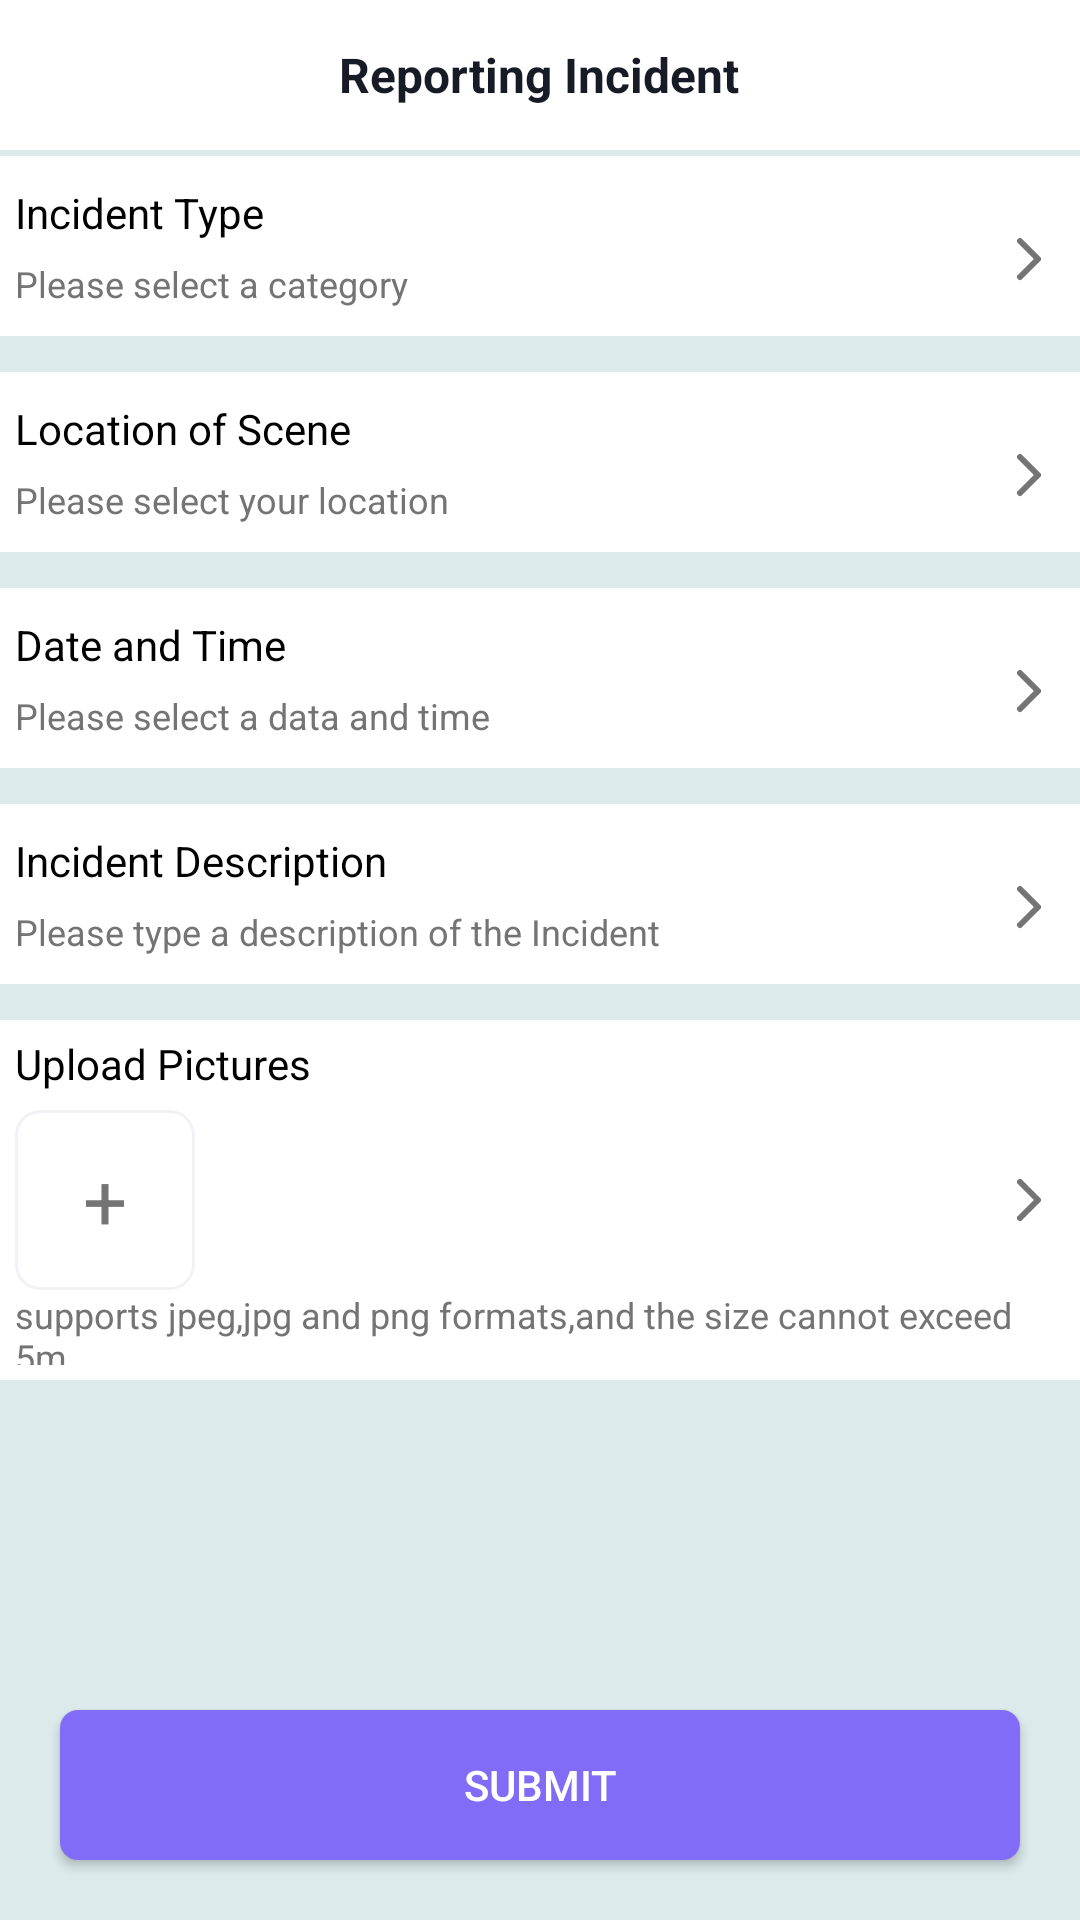

Named icons in this screenshot (1080 × 1920) and their bounding boxes, bbox=(x1, y1, x2, y2):
chevron right: bbox=(1017, 238, 1041, 280), bbox=(1017, 454, 1041, 496), bbox=(1017, 670, 1041, 712), bbox=(1017, 886, 1041, 928), bbox=(1017, 1179, 1041, 1221)
